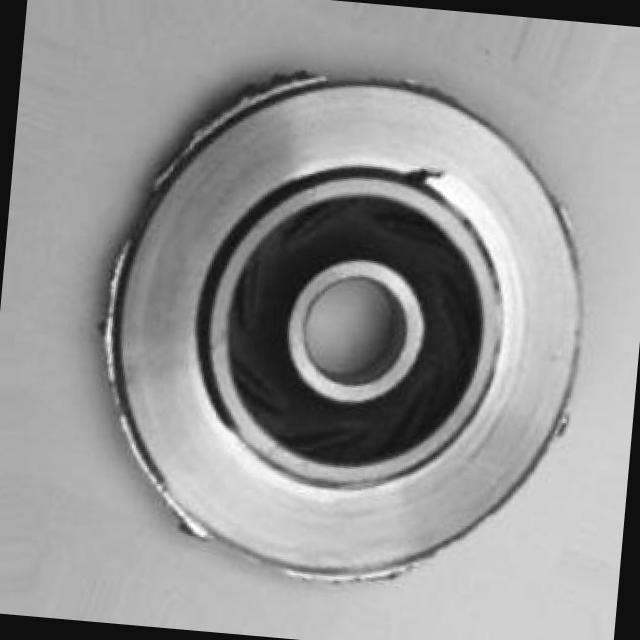Defect: (402, 156, 440, 192)
